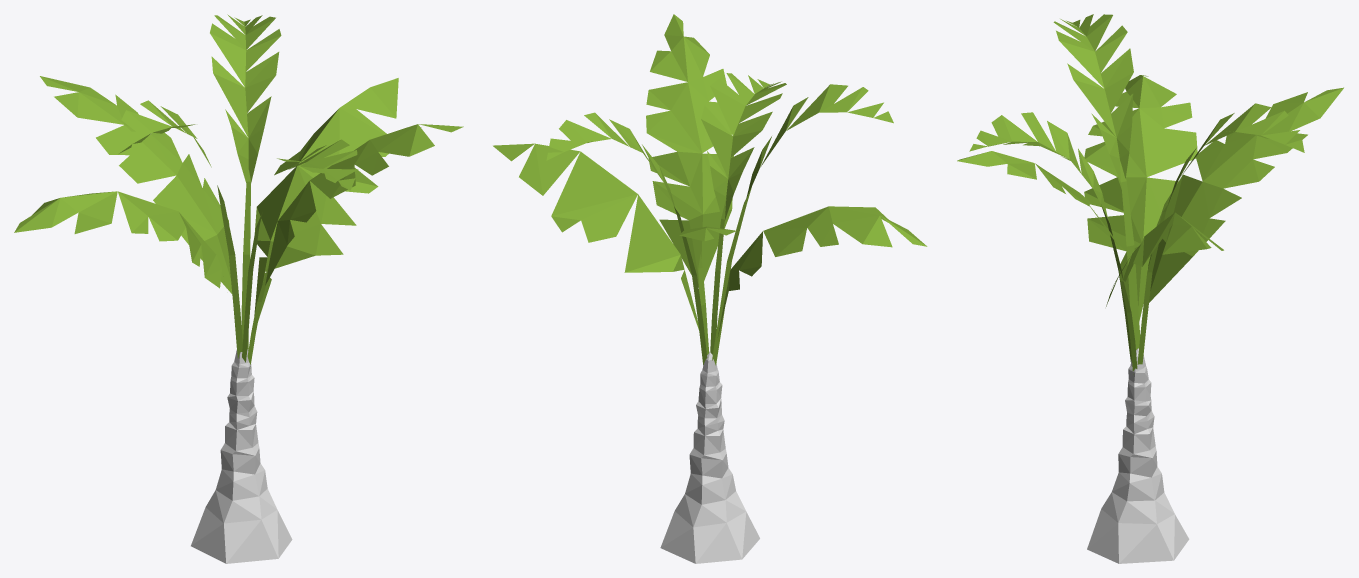
File: tree-palm-young-a.gltf
3 renders of one model, left to right at view 1: azimuth 30°, elevation 25°; view 2: azimuth 150°, elevation 25°; view 3: azimuth 270°, elevation 25°, orthographic. The views are drawn at different scales.
Parts seen in each view (by area): view 1: tree-palm-young-a; view 2: tree-palm-young-a; view 3: tree-palm-young-a.
Boxes of the visible parts, bbox=[...] form: tree-palm-young-a: bbox=[14, 14, 463, 563]; tree-palm-young-a: bbox=[493, 14, 927, 563]; tree-palm-young-a: bbox=[957, 14, 1343, 563].
Bounding box in the file's own units: 0.025 × 0.027 × 0.0203.
